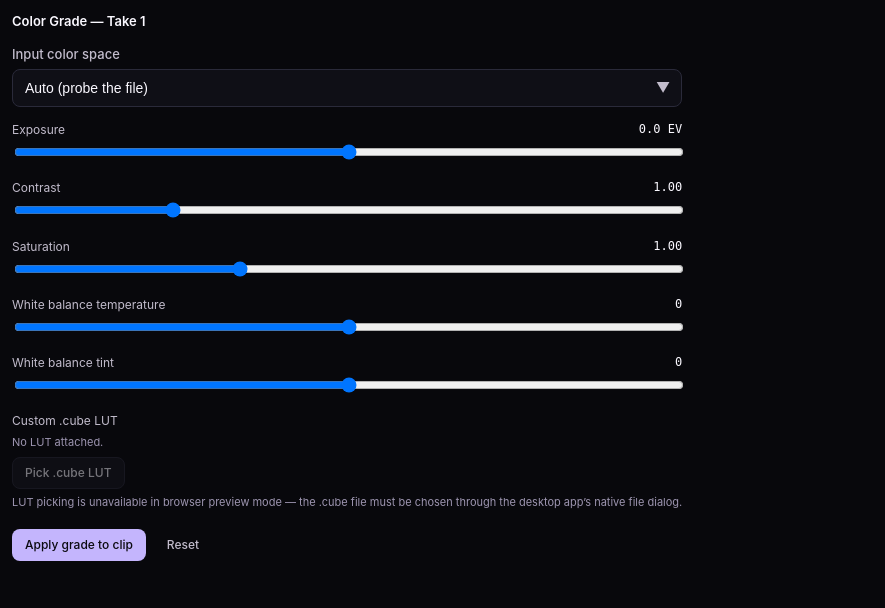
Test: ColorInspector: per-clip color grade tab › warns that V-Log and C-Log3 need a manufacturer LUT
Expected: the text "no built-in de-log LUT" is not shown
Select "Panasonic V-Log" in the dropdown labelled "Input color space" at [347, 88], box top-left (12, 69), bottom-right (682, 107)
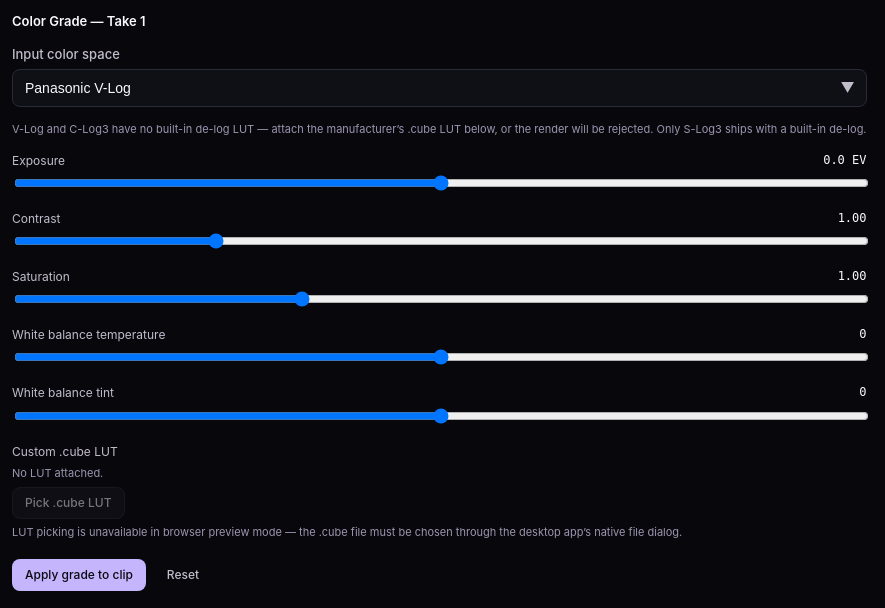
Expected: the text "Only S-Log3 ships with a built-in de-log" is shown, top-left (12, 122), bottom-right (866, 136)
Select "HLG HDR" in the dropdown labelled "Input color space" at [439, 88], box top-left (12, 69), bottom-right (866, 107)
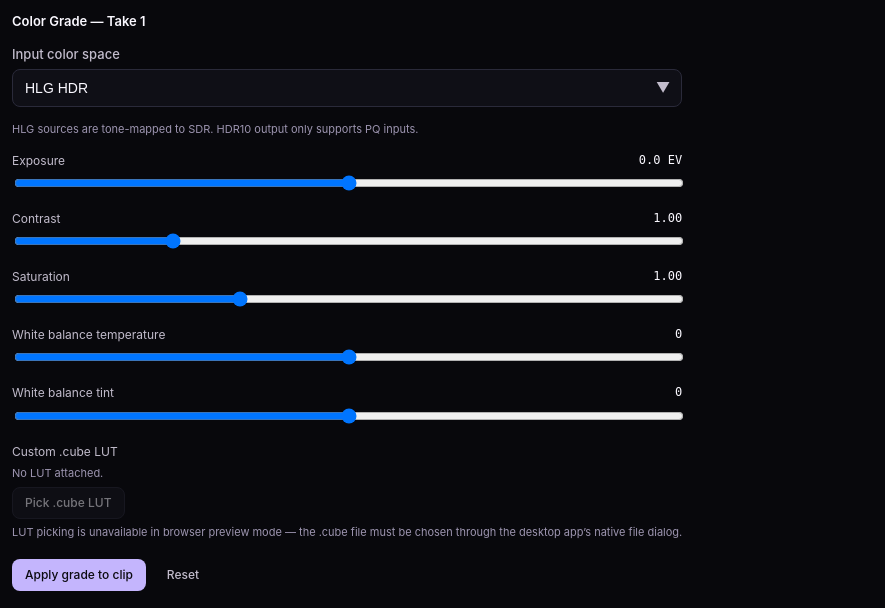
Expected: the text "HLG sources are tone-mapped to SDR" is shown, top-left (12, 122), bottom-right (418, 136)
